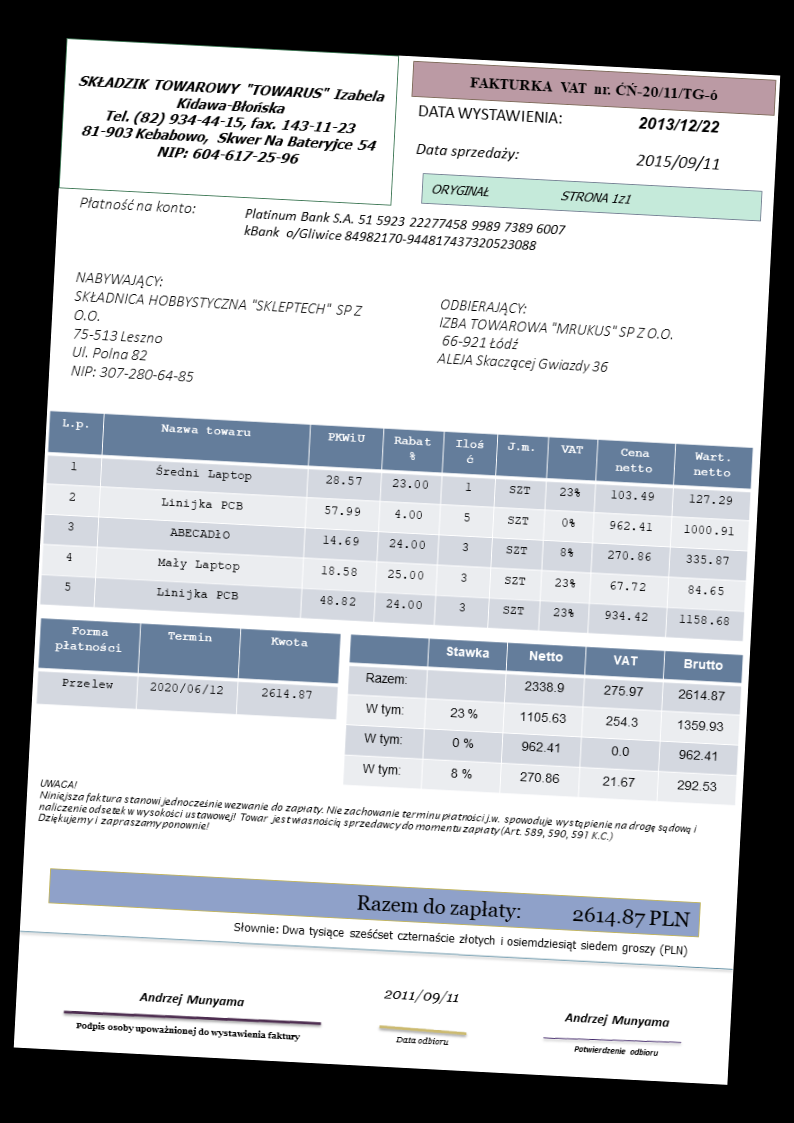Table: (38, 409, 755, 643), (340, 631, 746, 810), (34, 616, 343, 721)
TextBox: (35, 775, 703, 859), (67, 266, 368, 395), (72, 69, 390, 174), (230, 916, 690, 963), (434, 294, 676, 382), (240, 204, 568, 257), (354, 888, 693, 934), (465, 71, 719, 105), (429, 177, 634, 208), (72, 1018, 302, 1044), (414, 98, 562, 129), (413, 137, 522, 165), (77, 192, 197, 217), (134, 988, 250, 1011), (562, 1010, 672, 1032), (633, 148, 722, 175), (635, 112, 722, 137), (379, 984, 461, 1007), (570, 1042, 659, 1060), (392, 1031, 452, 1051)
